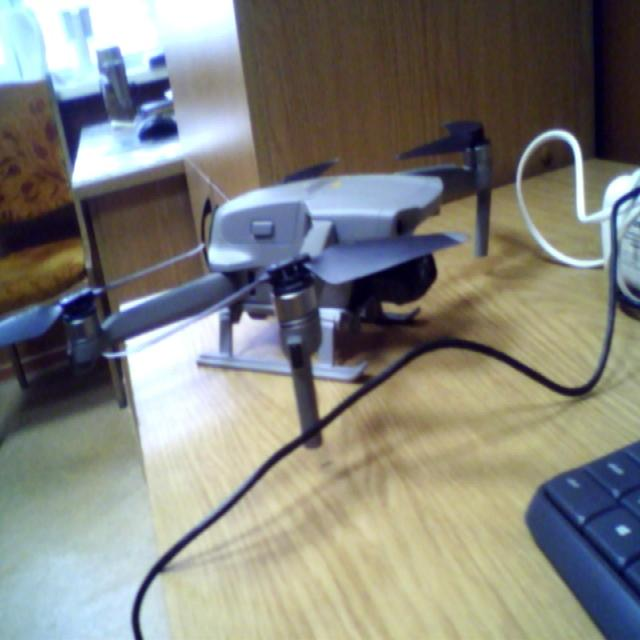drone: (6, 118, 538, 450)
